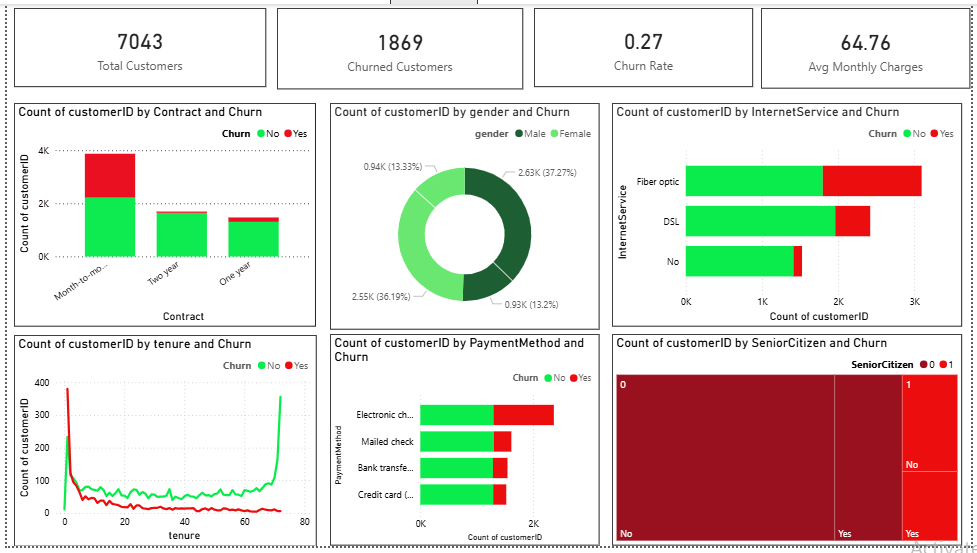

Layout of this report page (visuals, bound fields, positions):
{"tool":"powerbi","page":{"name":"Page 1","canvas":[1280,720],"ordinal":0},"visuals":[{"type":"card","fields":{"Values":["cleaned_telecom.Total Customers"]},"box":[9.3,5.3,334.8,104.9],"z":0},{"type":"card","fields":{"Values":["cleaned_telecom.Churned Customers"]},"box":[358.7,5.3,326.8,107.6],"z":1},{"type":"card","fields":{"Values":["cleaned_telecom.Churn Rate"]},"box":[700.1,5.3,290.9,104.9],"z":2},{"type":"card","fields":{"Values":["cleaned_telecom.Avg Monthly Charges"]},"box":[1002,5.5,278,107.4],"z":3},{"type":"columnChart","fields":{"Category":["cleaned_telecom.Contract"],"Y":["CountNonNull(cleaned_telecom.customerID)"],"Series":["cleaned_telecom.Churn"]},"box":[9.6,132.1,400.5,297.3],"z":4},{"type":"donutChart","fields":{"Category":["cleaned_telecom.gender"],"Y":["CountNonNull(cleaned_telecom.customerID)"],"Series":["cleaned_telecom.Churn"]},"box":[429.4,132.1,357.8,301.4],"z":5},{"type":"barChart","fields":{"Category":["cleaned_telecom.InternetService"],"Y":["CountNonNull(cleaned_telecom.customerID)"],"Series":["cleaned_telecom.Churn"]},"box":[803.8,132.1,465.2,297.3],"z":6},{"type":"lineChart","fields":{"Series":["cleaned_telecom.Churn"],"Y":["CountNonNull(cleaned_telecom.customerID)"],"Category":["cleaned_telecom.tenure"]},"box":[9.6,439.1,401.9,280.8],"z":7},{"type":"barChart","fields":{"Category":["cleaned_telecom.PaymentMethod"],"Y":["CountNonNull(cleaned_telecom.customerID)"],"Series":["cleaned_telecom.Churn"]},"box":[429,439,358,281],"z":8},{"type":"treemap","fields":{"Group":["cleaned_telecom.SeniorCitizen"],"Values":["CountNonNull(cleaned_telecom.customerID)"],"Details":["cleaned_telecom.Churn"]},"box":[804,439,465,281],"z":9}]}

Visuals, with their boxes in screenshot pixels (x1, y1, x2, y2), scaled from the page's 1280x720 canvas onto the 977x553 screenshot:
card - cleaned_telecom.Total Customers: bbox=(7, 4, 263, 85)
card - cleaned_telecom.Churned Customers: bbox=(274, 4, 523, 87)
card - cleaned_telecom.Churn Rate: bbox=(534, 4, 756, 85)
card - cleaned_telecom.Avg Monthly Charges: bbox=(765, 4, 976, 87)
columnChart - cleaned_telecom.Contract x CountNonNull(cleaned_telecom.customerID): bbox=(7, 101, 313, 330)
donutChart - cleaned_telecom.gender x CountNonNull(cleaned_telecom.customerID): bbox=(328, 101, 601, 333)
barChart - cleaned_telecom.InternetService x CountNonNull(cleaned_telecom.customerID): bbox=(614, 101, 969, 330)
lineChart - cleaned_telecom.Churn x CountNonNull(cleaned_telecom.customerID): bbox=(7, 337, 314, 552)
barChart - cleaned_telecom.PaymentMethod x CountNonNull(cleaned_telecom.customerID): bbox=(327, 337, 601, 552)
treemap - cleaned_telecom.SeniorCitizen x CountNonNull(cleaned_telecom.customerID): bbox=(614, 337, 969, 552)
